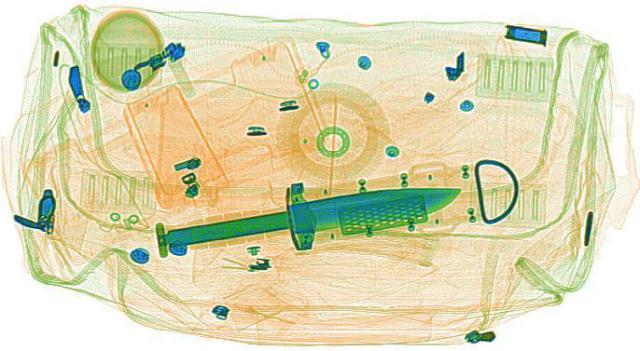Knife: (121, 156, 486, 275)
